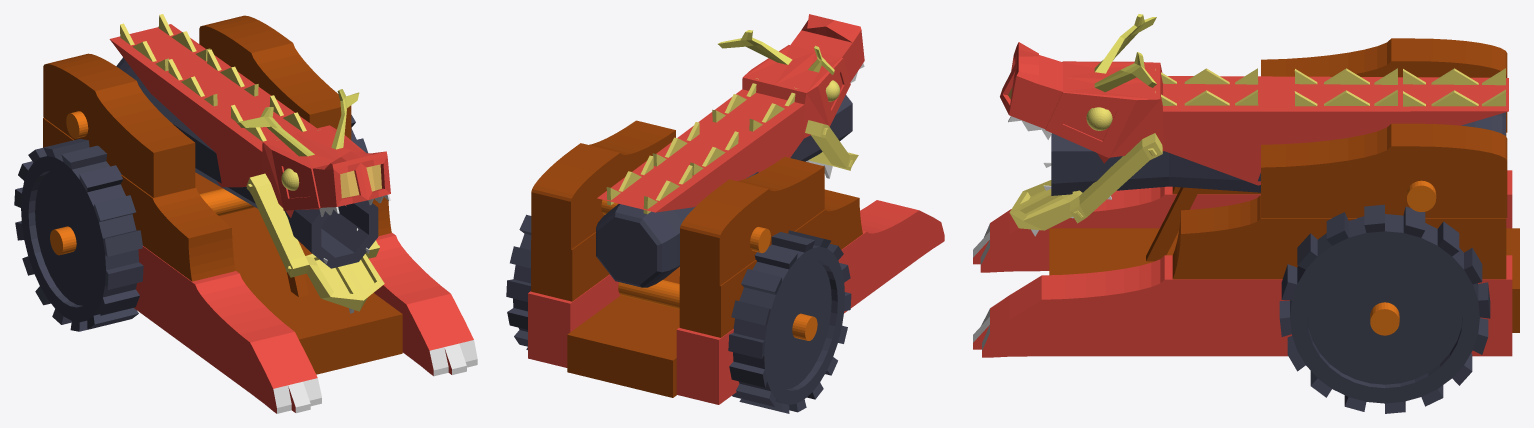
The model's file is Fire Tower 1.fbx.
The picture shows the model from 3 angles, left to right: view 1: azimuth 30°, elevation 25°; view 2: azimuth 150°, elevation 25°; view 3: azimuth 270°, elevation 25°; orthographic projection. The views are drawn at different scales.
Visible parts, largest first — view 1: Cube.004, Cube, Cube.006, Cylinder.001, Cube.003, Cube.005, Cube.002, Cube.001, Cylinder.002, Plane.005, Plane.004, Plane.002 (+1 smaller); view 2: Cube.006, Cube, Cylinder.001, Cube.004, Cube.005, Cube.003, Cube.002, Cylinder.002, Cube.001, Plane.005, Plane.004, Plane.002 (+1 smaller); view 3: Cube.004, Cylinder.001, Cube, Cube.006, Cube.005, Cube.002, Cube.003, Cube.001, Plane.005, Plane.004, Plane.002, Cube.007 (+3 smaller).
Part boxes in pixels (box(x1,y1,x2,y2)): Cube.004: box(134, 232, 477, 413); Cube: box(109, 24, 390, 217); Cube.006: box(43, 15, 351, 197); Cylinder.001: box(14, 115, 367, 331); Cube.003: box(195, 172, 402, 374); Cube.005: box(43, 118, 391, 281); Cube.002: box(116, 57, 378, 268); Cube.001: box(246, 173, 384, 311); Cylinder.002: box(50, 188, 254, 255); Plane.005: box(120, 14, 210, 71); Plane.004: box(168, 49, 258, 106); Plane.002: box(231, 95, 320, 141); Cube.006: box(531, 120, 824, 285); Cube: box(597, 14, 864, 212); Cylinder.001: box(506, 214, 851, 413); Cube.004: box(528, 200, 944, 404); Cube.005: box(531, 189, 862, 337); Cube.003: box(567, 266, 679, 397); Cube.002: box(596, 95, 852, 287); Cylinder.002: box(618, 280, 817, 340); Cube.001: box(805, 120, 858, 170); Plane.005: box(606, 155, 692, 214); Plane.004: box(652, 122, 738, 175); Plane.002: box(712, 78, 796, 131); Cube.004: box(973, 170, 1512, 357); Cylinder.001: box(1279, 204, 1490, 413); Cube: box(1000, 14, 1508, 185); Cube.006: box(1261, 38, 1507, 217); Cube.005: box(1172, 133, 1506, 279); Cube.002: box(1051, 112, 1505, 195); Cube.003: box(1049, 228, 1519, 332); Cube.001: box(1009, 133, 1162, 230); Plane.005: box(1403, 68, 1505, 106); Plane.004: box(1294, 68, 1397, 106); Plane.002: box(1155, 68, 1258, 105); Cube.007: box(1146, 187, 1199, 261).
Size of the model in its own units: 1242 by 1176 by 1900.
